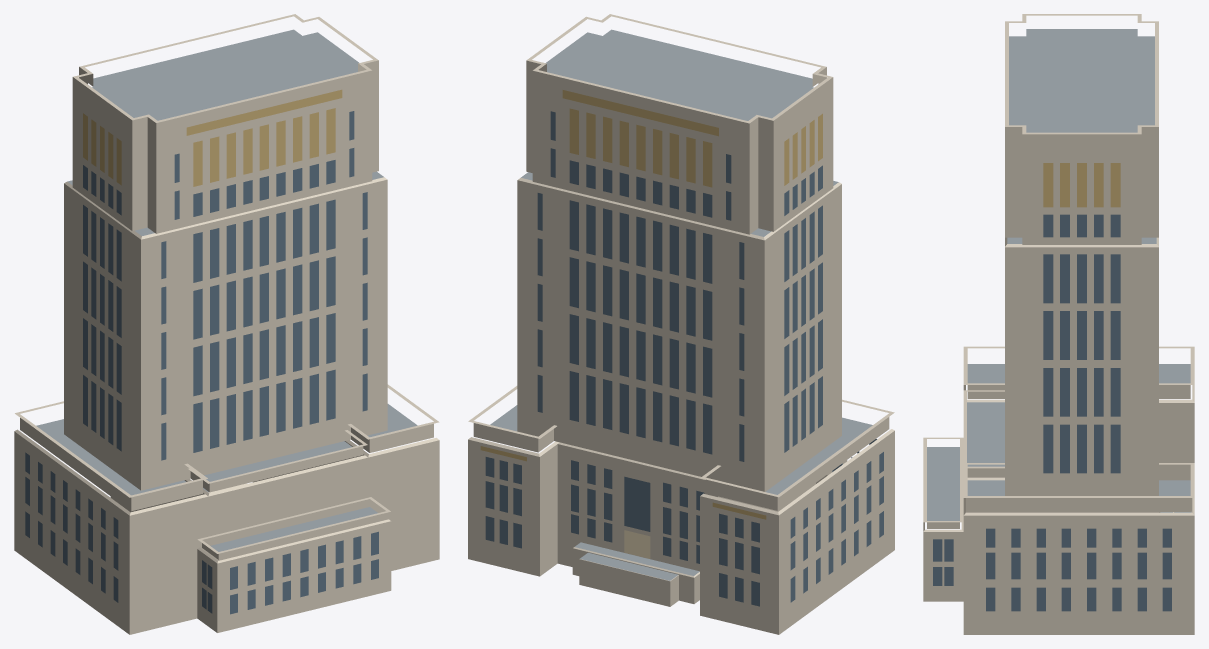
File: kc-jackson-county-courthouse.glb
3 views of the same model, side by side, from view 1: azimuth 30°, elevation 25°; view 2: azimuth 150°, elevation 25°; view 3: azimuth 270°, elevation 25° (orthographic).
Visible parts, largest first — view 1: Jackson County Courthouse; view 2: Jackson County Courthouse; view 3: Jackson County Courthouse.
Part boxes in pixels (x1=…): Jackson County Courthouse: x1=14, y1=14, x2=439, y2=634; Jackson County Courthouse: x1=468, y1=14, x2=894, y2=634; Jackson County Courthouse: x1=923, y1=14, x2=1194, y2=634.
Bounding box in the file's own units: 61.6 × 92 × 46.7.
